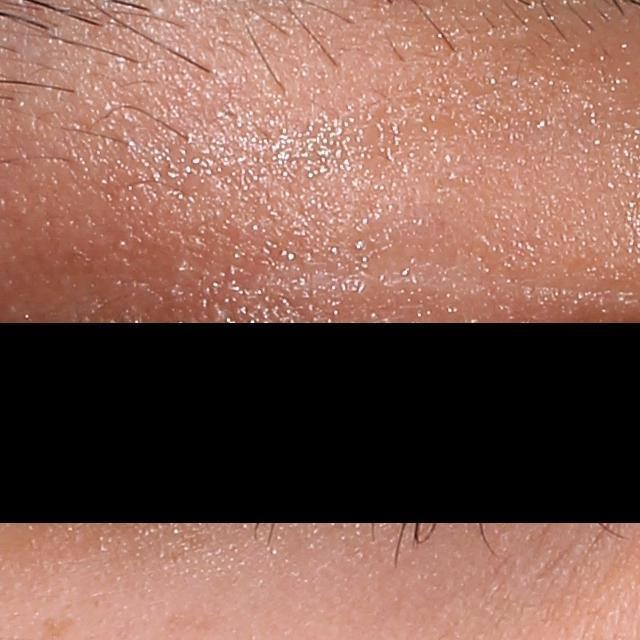melasma: (38, 615, 76, 640)
